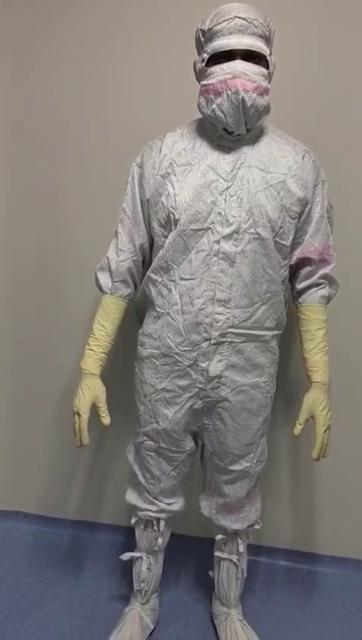gloves_fitted_securely: (66, 274, 142, 454), (278, 281, 350, 465)
headgear_secured: (184, 0, 278, 144)
zip_secured: (203, 128, 249, 406)
